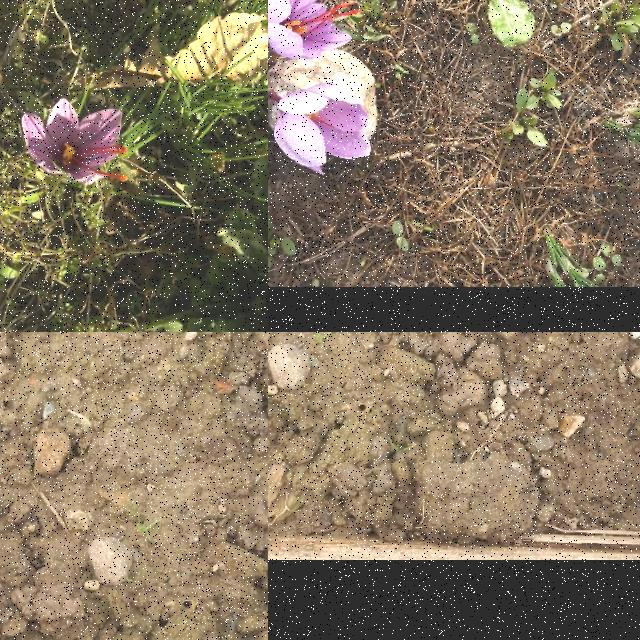flower: (21, 100, 127, 184), (274, 84, 370, 174), (268, 0, 359, 58)
